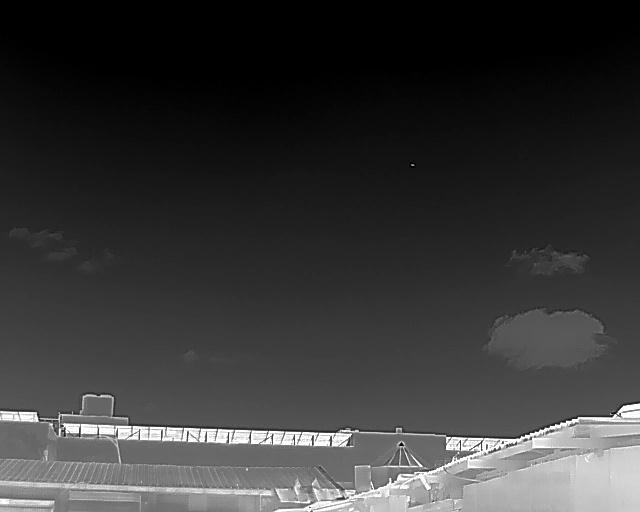fpv-drone: (409, 162, 416, 167)
